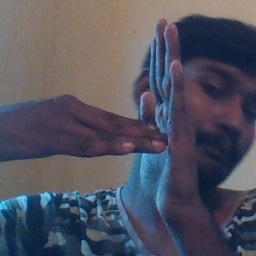Z: (76, 17, 201, 210)
